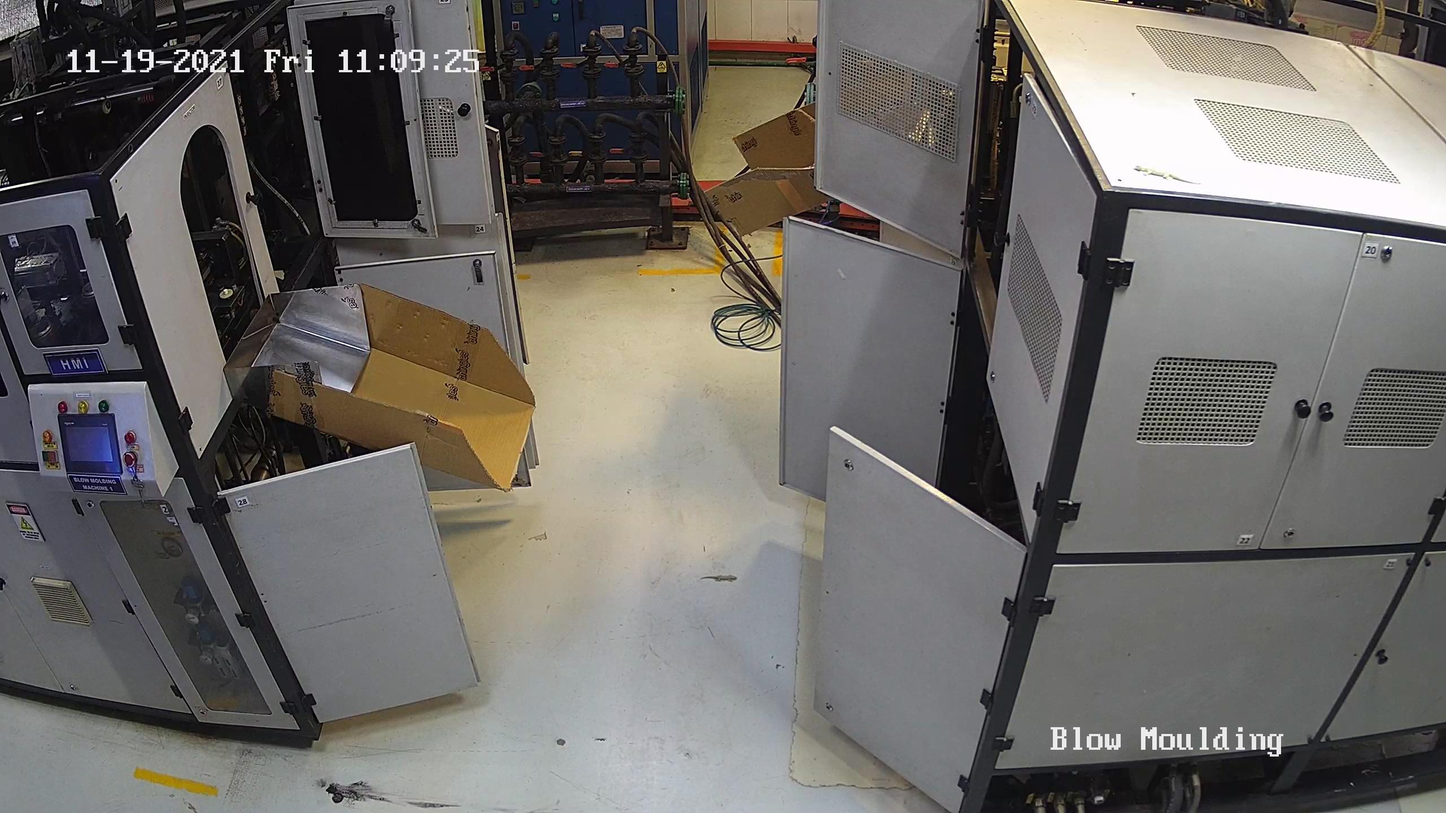lizard: (697, 563, 737, 589)
